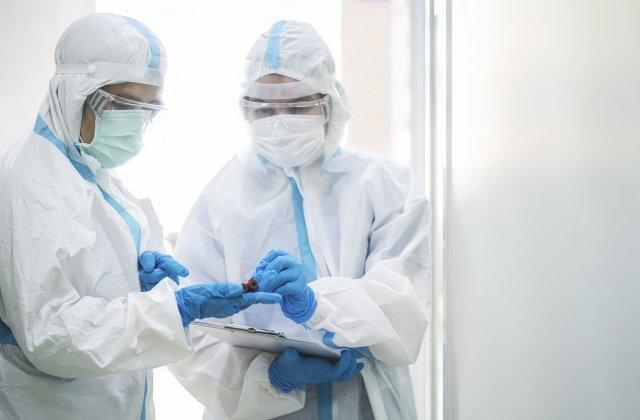Coverall: (184, 21, 418, 420), (5, 20, 173, 420)
Gloves: (250, 244, 327, 324), (266, 345, 364, 402), (165, 280, 262, 329), (130, 245, 187, 293)
Goggles: (236, 93, 336, 133), (87, 85, 170, 132)
with_mask: (73, 84, 159, 169), (242, 93, 332, 170)
